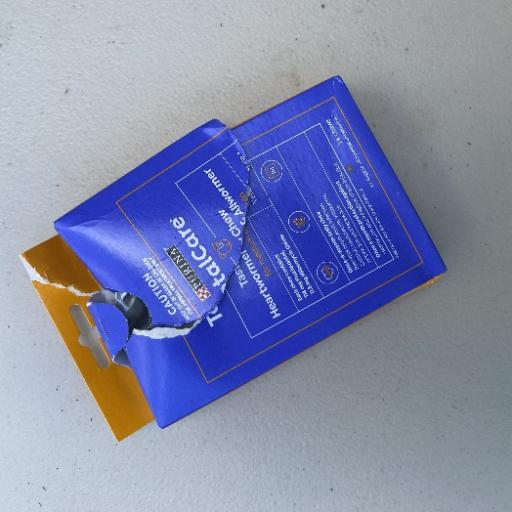Cardboard: (18, 74, 448, 441), (52, 116, 252, 338)
